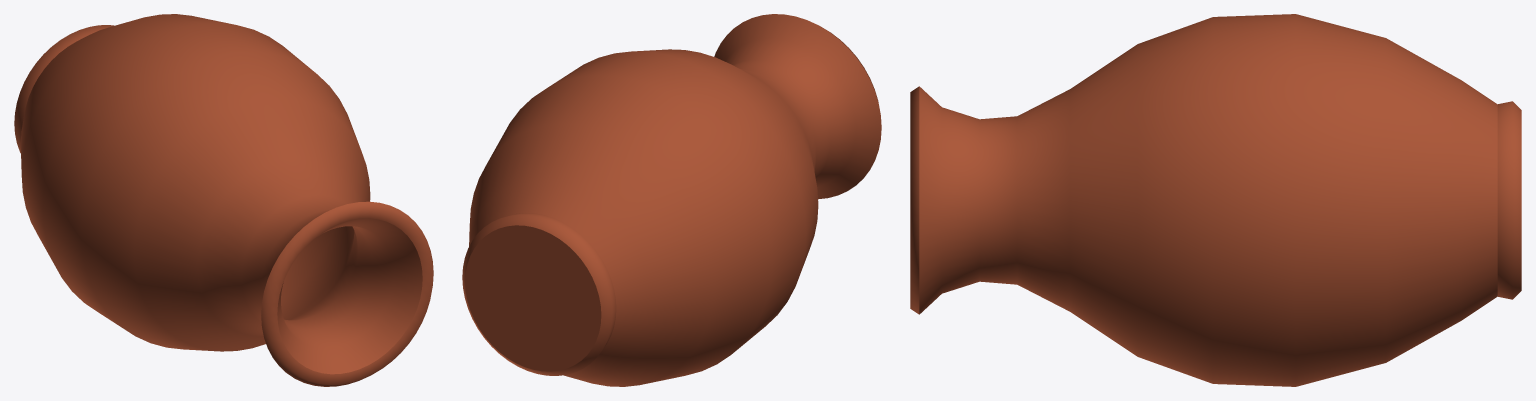
Rendered from vase.obj.
3 renders of one model, left to right at view 1: azimuth 30°, elevation 25°; view 2: azimuth 150°, elevation 25°; view 3: azimuth 270°, elevation 25°, orthographic. The views are drawn at different scales.
Visible parts, largest first — view 1: Vase; view 2: Vase; view 3: Vase.
Part boxes in pixels (x1,y1,x2,y2): Vase: (14,14,433,386); Vase: (462,14,881,386); Vase: (910,14,1521,386).
Size of the model in its own units: 0.248 by 0.248 by 0.406.
